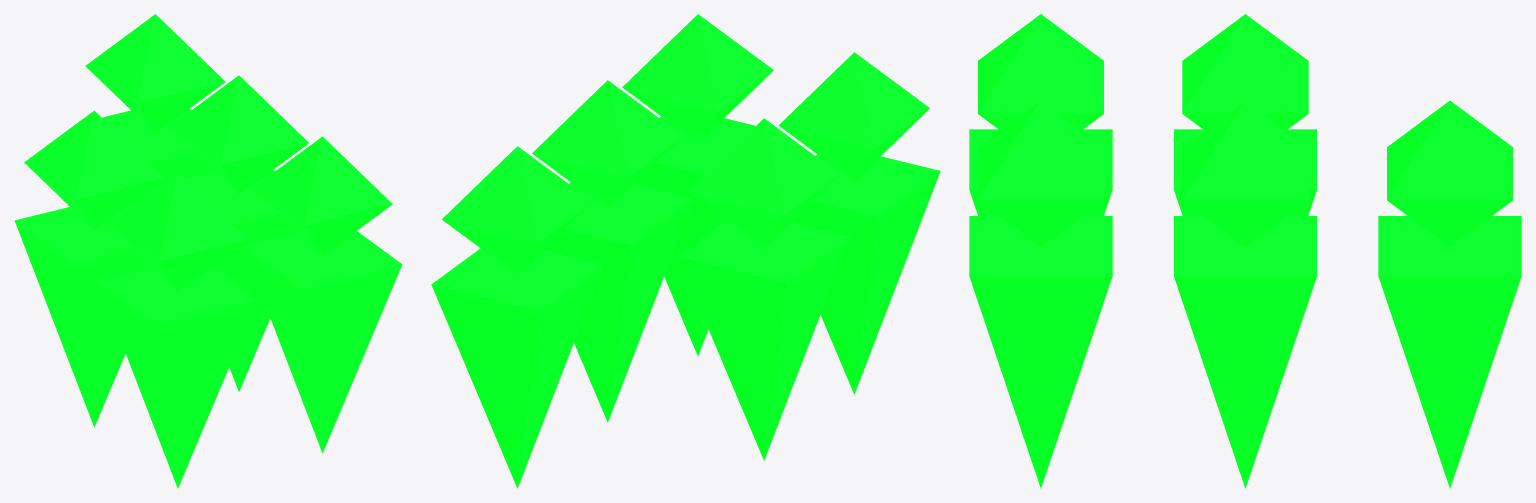
Rendered from person_g05.glb.
The picture shows the model from 3 angles, left to right: view 1: azimuth 30°, elevation 25°; view 2: azimuth 150°, elevation 25°; view 3: azimuth 270°, elevation 25°; orthographic projection. The views are drawn at different scales.
Parts seen in each view (by area): view 1: person.012, person.011, person.014, person.013, person.015; view 2: person.014, person.015, person.012, person.013, person.011; view 3: person.011, person.015, person.013, person.014, person.012.
Part boxes in pixels (x1,y1,x2,y2): person.012: (98, 172, 257, 488); person.011: (243, 136, 402, 453); person.014: (14, 110, 164, 427); person.013: (169, 75, 308, 391); person.015: (85, 14, 225, 206); person.014: (678, 118, 850, 460); person.015: (431, 146, 603, 488); person.012: (778, 52, 940, 394); person.013: (532, 80, 693, 422); person.011: (622, 14, 773, 356); person.011: (969, 100, 1112, 488); person.015: (1378, 100, 1521, 488); person.013: (1174, 100, 1316, 488); person.014: (1174, 14, 1316, 215); person.012: (969, 14, 1112, 215).
Size of the model in its own units: 1.7 by 2.1 by 2.7.
